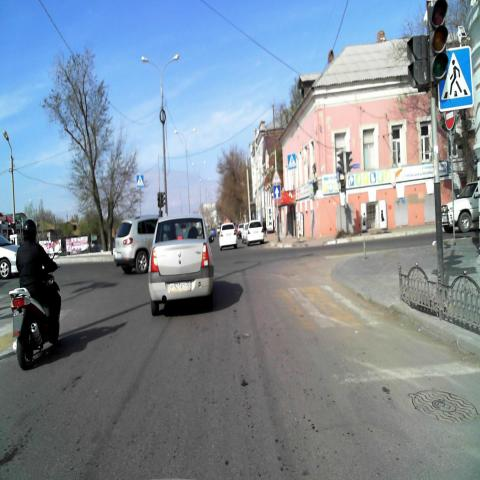3_1: (445, 106, 455, 131)
